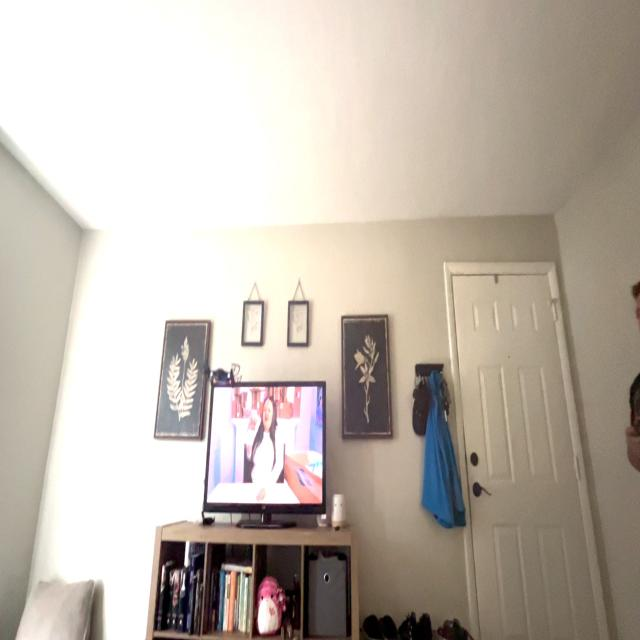drone: (193, 352, 247, 393)
